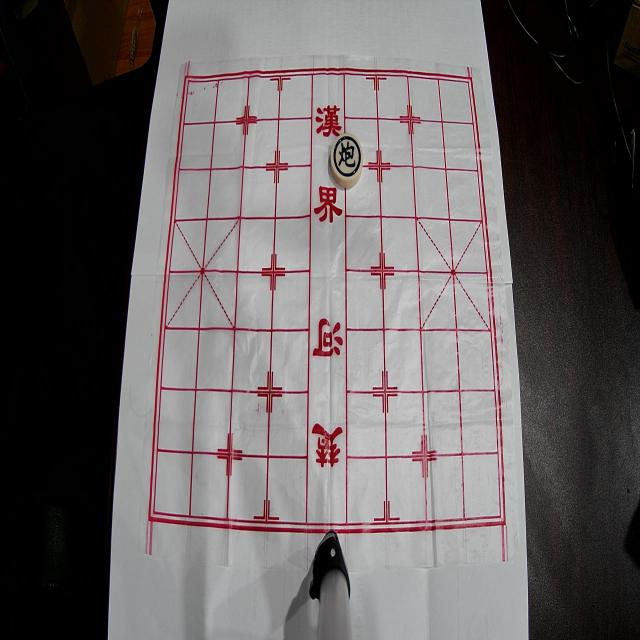black-cannon: (331, 134, 364, 188)
